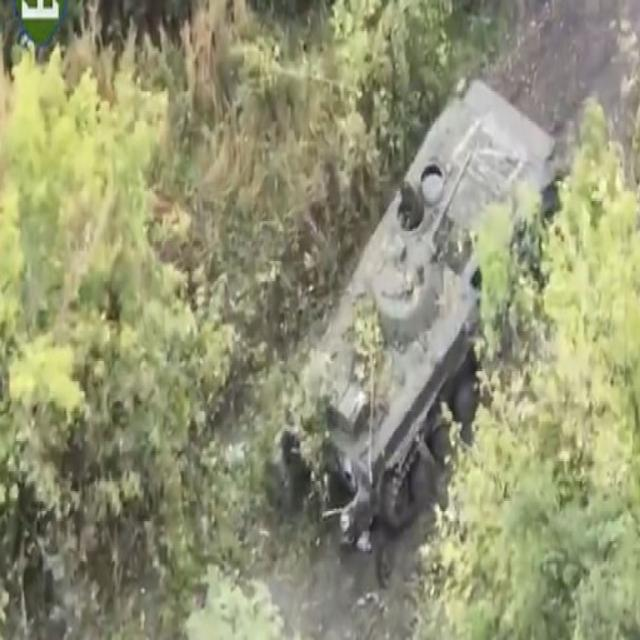APC-IFV: (280, 67, 562, 522)
